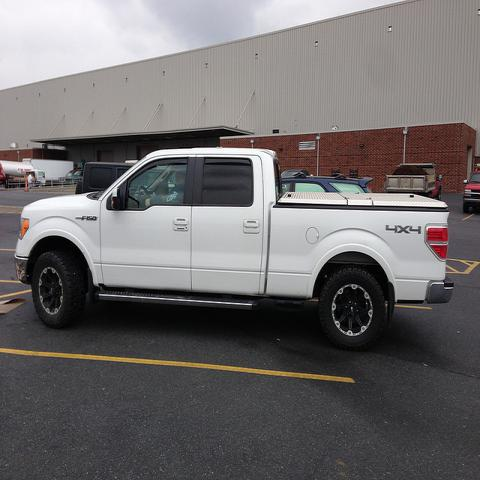car: (74, 162, 135, 196), (282, 177, 374, 190), (280, 168, 313, 176)
truck: (12, 147, 454, 352), (384, 161, 443, 200), (463, 170, 479, 216)
